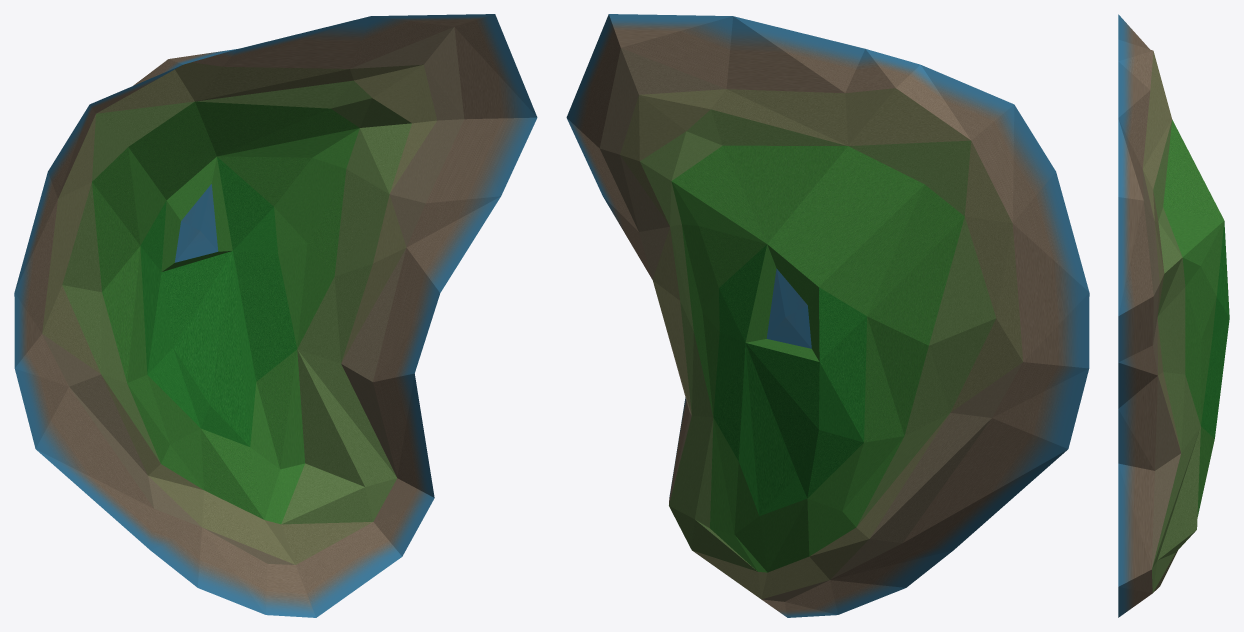
Rendered from green_land_1.FBX.
The picture shows the model from 3 angles, left to right: view 1: azimuth 30°, elevation 25°; view 2: azimuth 150°, elevation 25°; view 3: azimuth 270°, elevation 25°; orthographic projection. The views are drawn at different scales.
Visible parts, largest first — view 1: Icosphere.006; view 2: Icosphere.006; view 3: Icosphere.006.
Boxes of the visible parts, x1=… form: Icosphere.006: x1=14, y1=14, x2=537, y2=617; Icosphere.006: x1=566, y1=14, x2=1089, y2=617; Icosphere.006: x1=1118, y1=14, x2=1229, y2=617.
Bounding box in the file's own units: 3845 × 4135 × 800.
